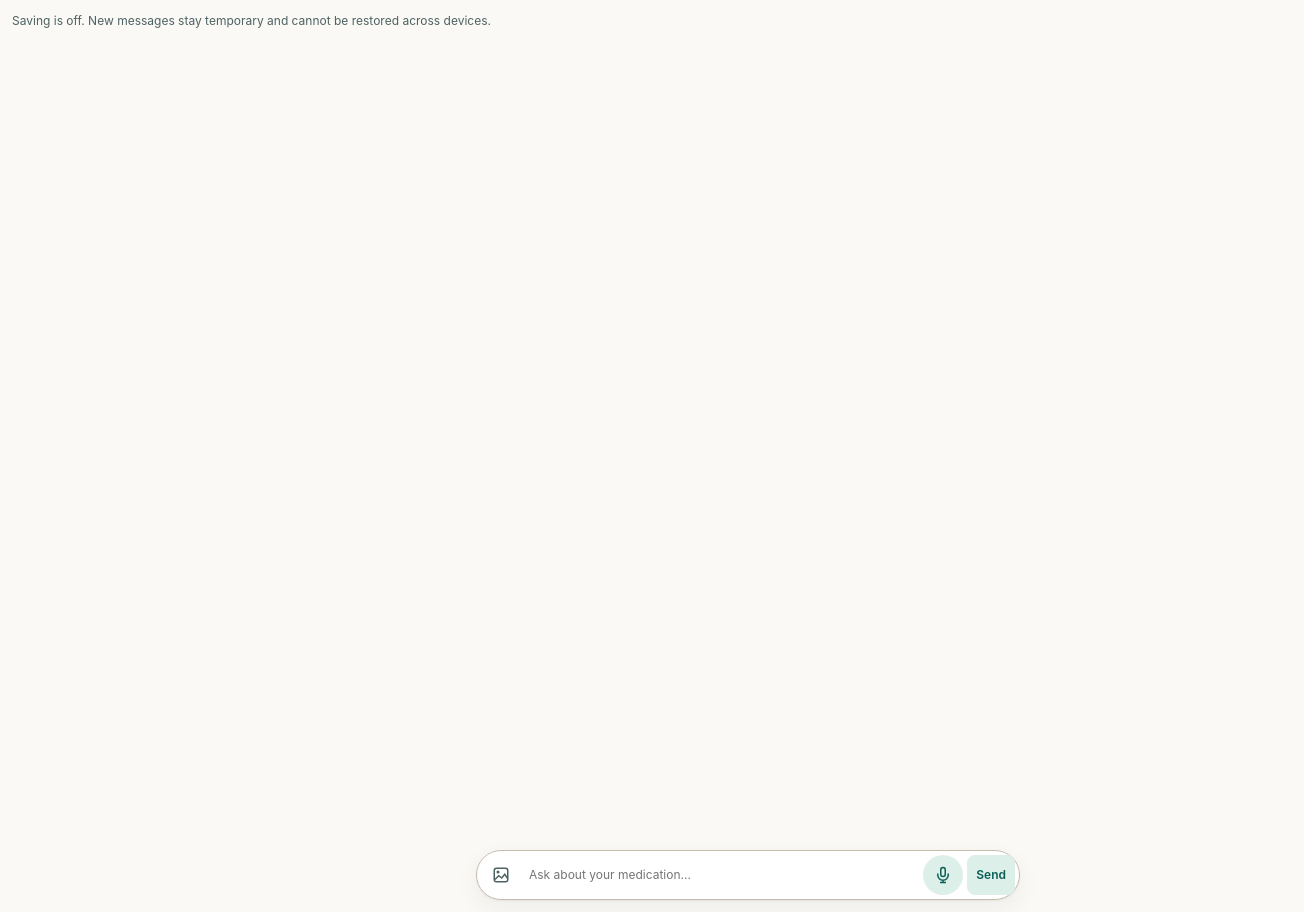
Scenario: adopts a prepared new native session without sending a duplicate creation request
Later steps or results of the test are not shown.
Type "DEMO request" into the field.
click(722, 875); type("DEMO request")  # box [525,855,919,895]
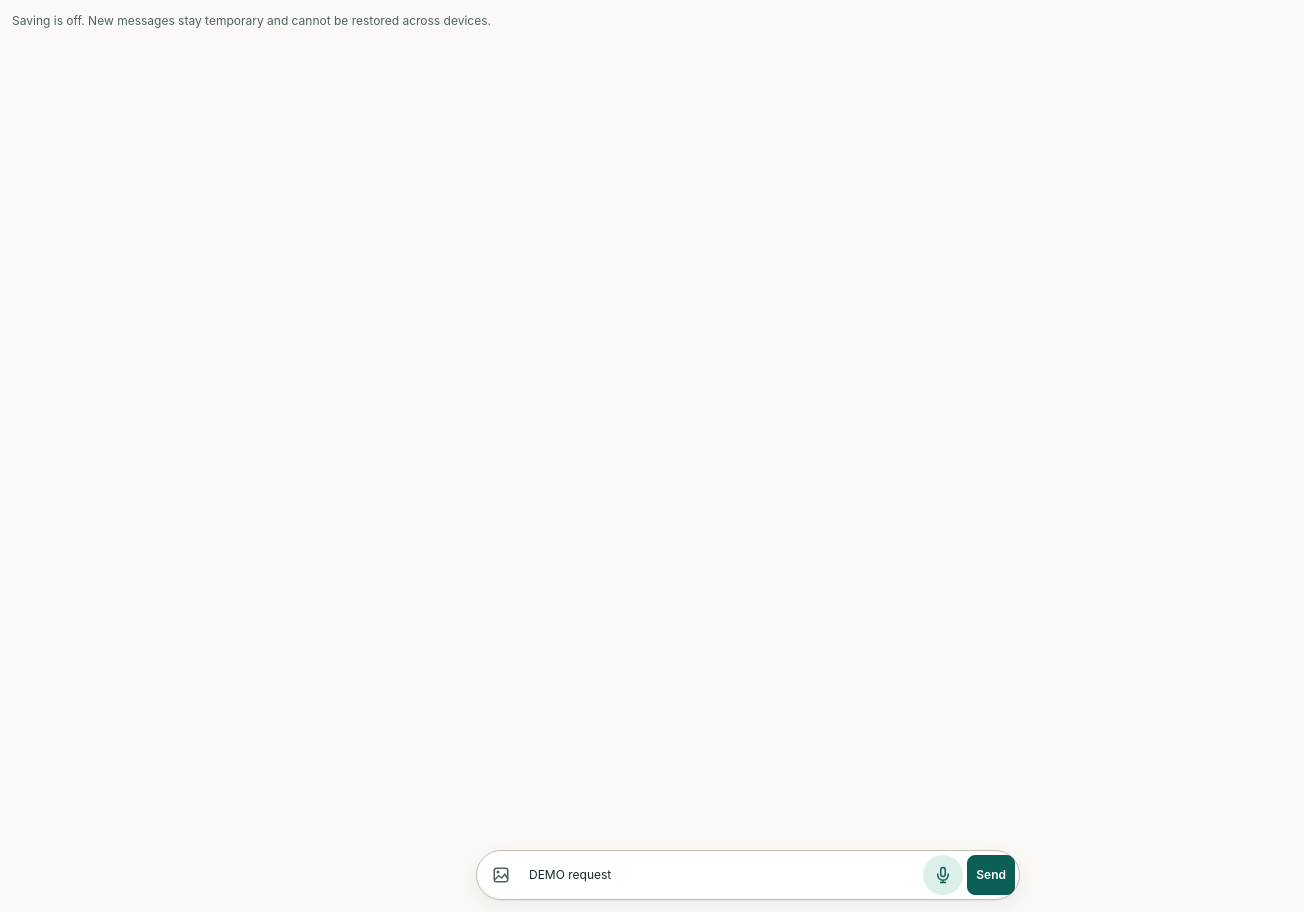
Click the button "Send".
click(991, 875)  # box [967,855,1015,895]
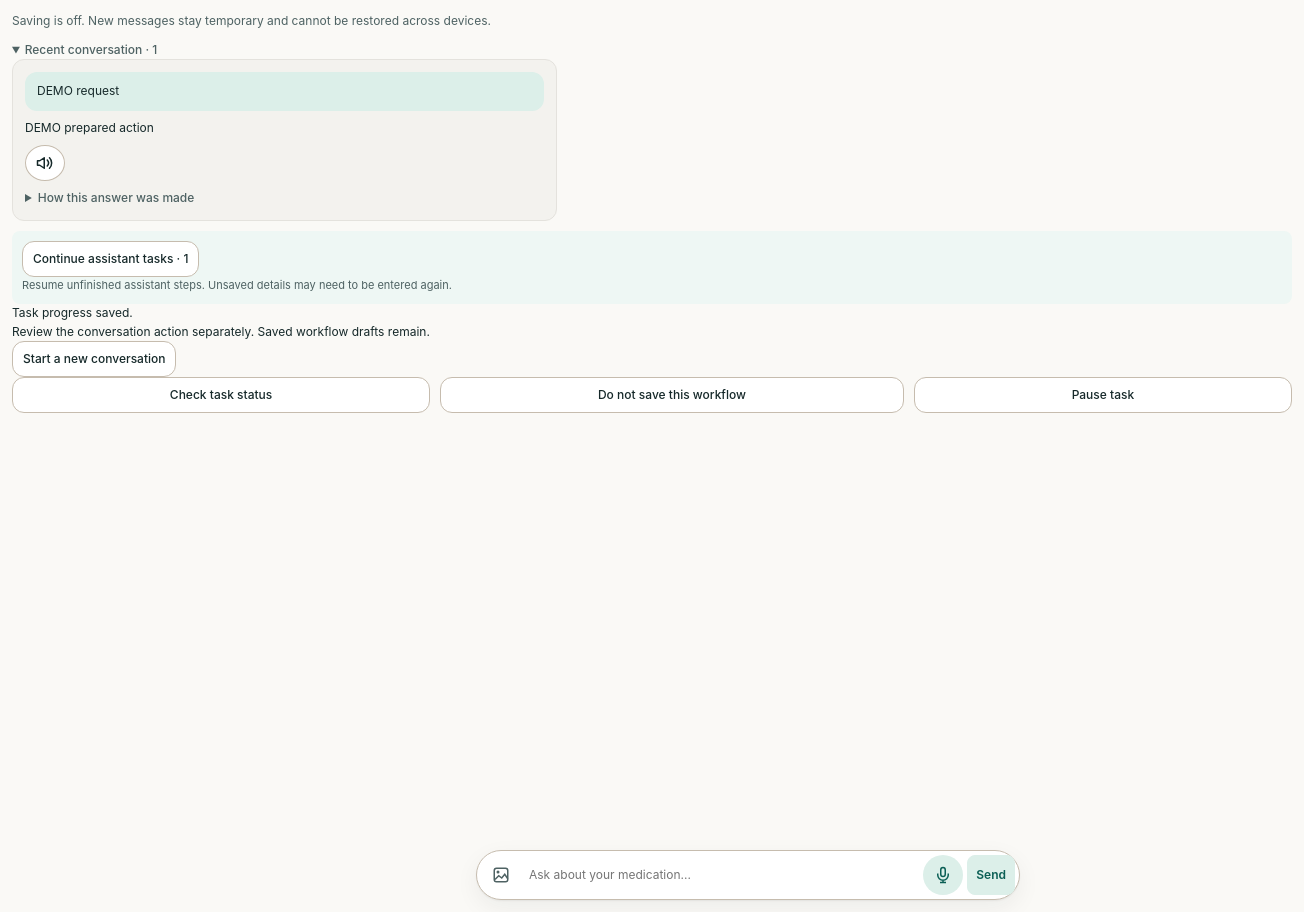
Check: the text "DEMO prepared action" is shown, box [25,120,154,135]
